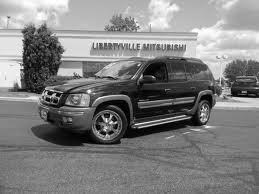car: (37, 60, 218, 144)
